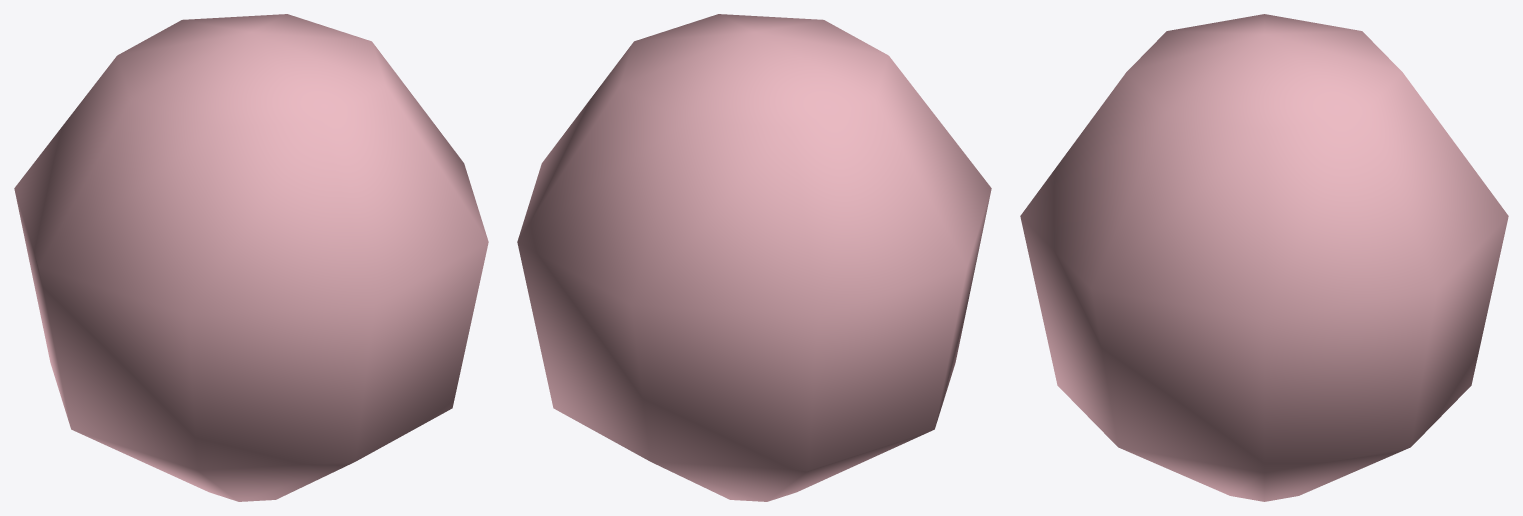
Rendered from Egg of EarthLowPoly.glb.
3 views of the same model, side by side, from view 1: azimuth 30°, elevation 25°; view 2: azimuth 150°, elevation 25°; view 3: azimuth 270°, elevation 25° (orthographic).
Parts seen in each view (by area): view 1: Sphere; view 2: Sphere; view 3: Sphere.
Boxes of the visible parts, <box> form: Sphere: <box>14,14,488,501</box>; Sphere: <box>517,14,991,501</box>; Sphere: <box>1020,14,1508,501</box>.
Size of the model in its own units: 5.52 by 5.63 by 5.52.
